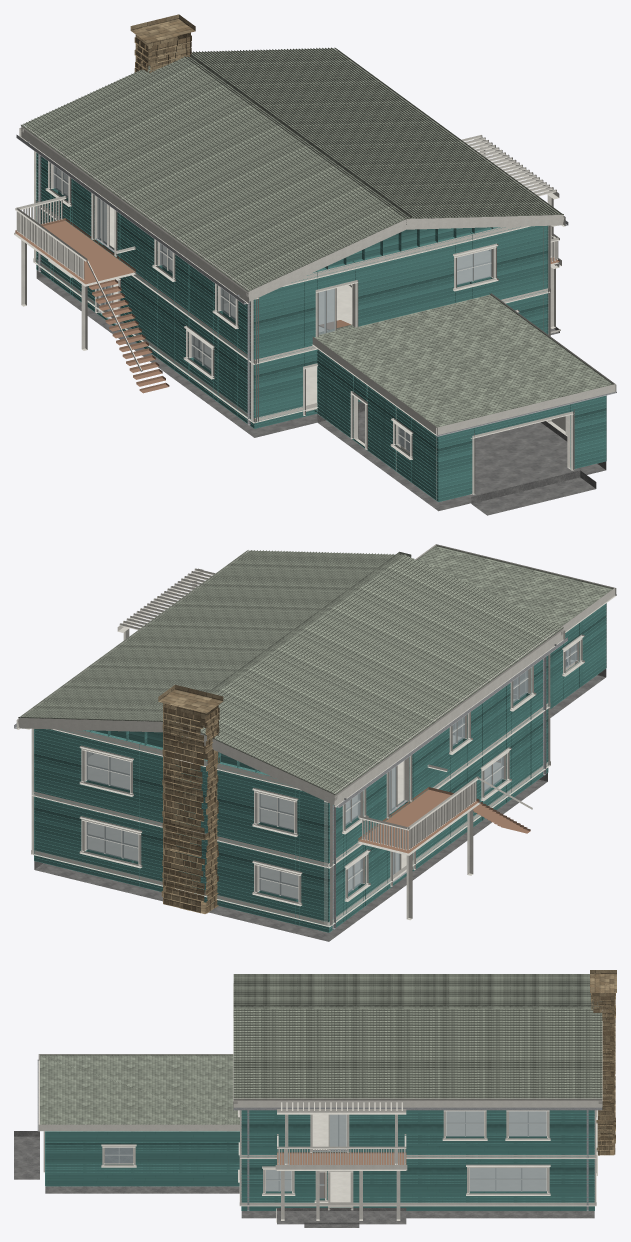
The model's file is house-teal-shell.glb.
3 views of the same model, one above another, from view 1: azimuth 30°, elevation 25°; view 2: azimuth 150°, elevation 25°; view 3: azimuth 270°, elevation 25° (orthographic). The views are drawn at different scales.
Visible parts, largest first — view 1: world-studio.house.teal.shell.shingle, world-studio.house.teal.shell.siding, world-studio.house.teal.shell.trim, world-studio.house.teal.shell.concrete, world-studio.house.teal.shell.door, world-studio.house.teal.shell.glass, world-studio.house.teal.shell.masonry, world-studio.house.teal.shell.metal; view 2: world-studio.house.teal.shell.shingle, world-studio.house.teal.shell.siding, world-studio.house.teal.shell.trim, world-studio.house.teal.shell.masonry, world-studio.house.teal.shell.glass, world-studio.house.teal.shell.concrete, world-studio.house.teal.shell.door, world-studio.house.teal.shell.metal; view 3: world-studio.house.teal.shell.shingle, world-studio.house.teal.shell.siding, world-studio.house.teal.shell.trim, world-studio.house.teal.shell.concrete, world-studio.house.teal.shell.glass, world-studio.house.teal.shell.masonry, world-studio.house.teal.shell.metal, world-studio.house.teal.shell.door.
Part boxes in pixels (x1,y1,x2,y2): world-studio.house.teal.shell.shingle: (21,47,613,427); world-studio.house.teal.shell.siding: (36,153,606,501); world-studio.house.teal.shell.trim: (14,50,616,499); world-studio.house.teal.shell.concrete: (36,270,606,515); world-studio.house.teal.shell.door: (15,218,559,393); world-studio.house.teal.shell.glass: (53,166,491,451); world-studio.house.teal.shell.masonry: (130,14,195,72); world-studio.house.teal.shell.metal: (16,134,616,436); world-studio.house.teal.shell.shingle: (18,545,613,794); world-studio.house.teal.shell.siding: (34,603,606,932); world-studio.house.teal.shell.trim: (16,544,616,929); world-studio.house.teal.shell.masonry: (158,684,223,913); world-studio.house.teal.shell.glass: (86,643,577,899); world-studio.house.teal.shell.concrete: (34,651,606,941); world-studio.house.teal.shell.door: (358,761,530,853); world-studio.house.teal.shell.metal: (14,594,616,929); world-studio.house.teal.shell.shingle: (40,974,602,1124); world-studio.house.teal.shell.siding: (45,1110,594,1210); world-studio.house.teal.shell.trim: (38,983,602,1222); world-studio.house.teal.shell.concrete: (14,1131,594,1227); world-studio.house.teal.shell.glass: (105,1111,546,1198); world-studio.house.teal.shell.masonry: (590,970,616,1155); world-studio.house.teal.shell.metal: (37,1059,602,1210); world-studio.house.teal.shell.door: (277,1152,406,1197).
Size of the model in its own units: 18.49 by 9.84 by 30.74.
8 materials, 6 textured.
